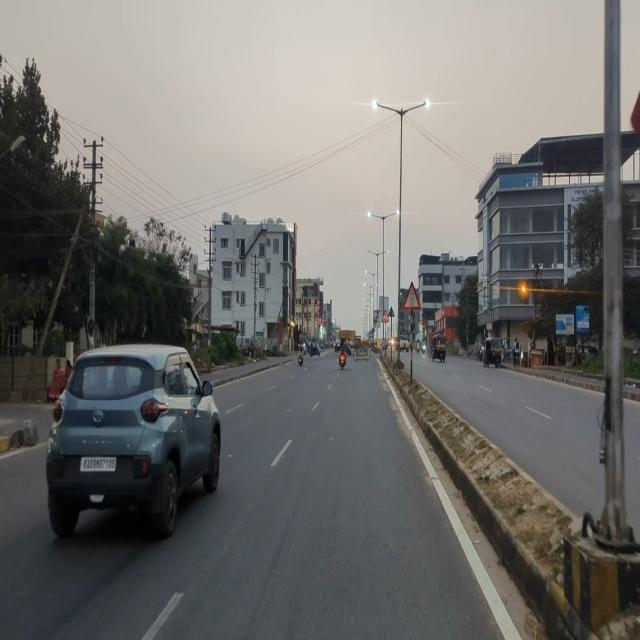bien_cam: (402, 279, 422, 312), (381, 309, 389, 322)
